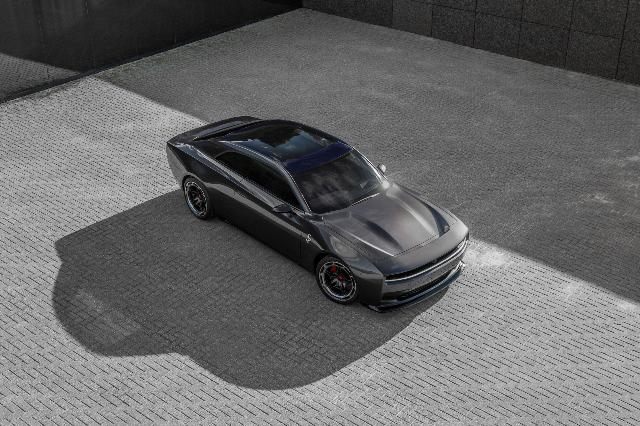dodge: (166, 114, 470, 316)
